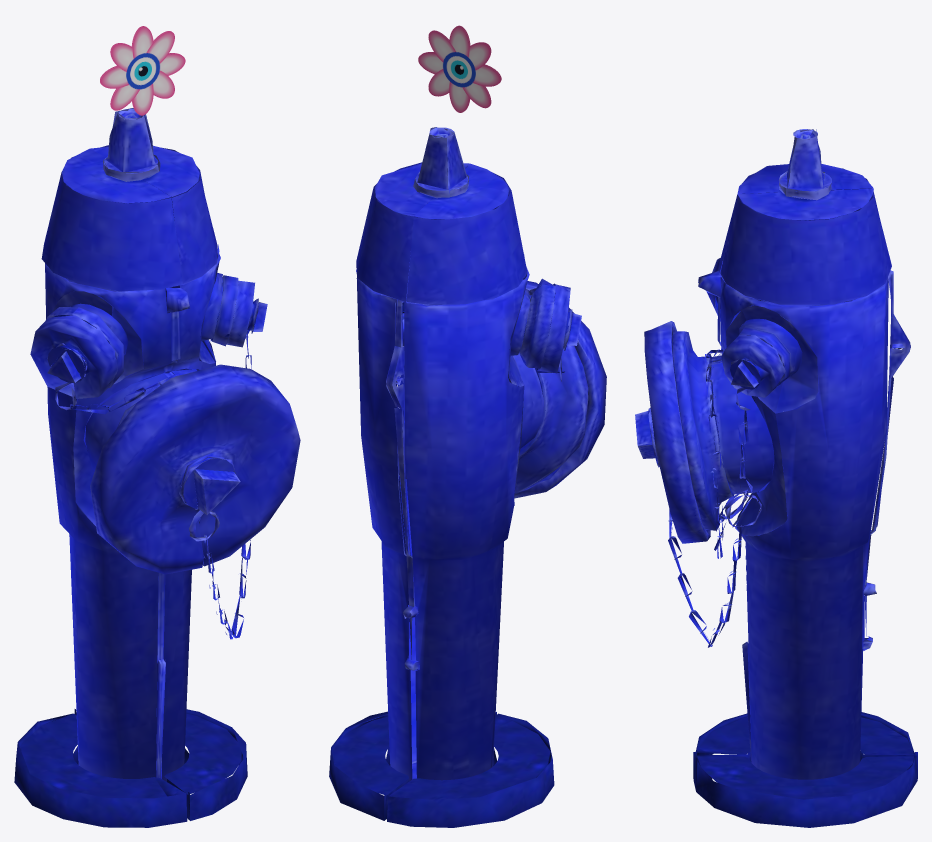
Rendered from isl_hydrant.glb.
3 views of the same model, side by side, from view 1: azimuth 30°, elevation 25°; view 2: azimuth 150°, elevation 25°; view 3: azimuth 270°, elevation 25° (orthographic). The views are drawn at different scales.
Parts seen in each view (by area): view 1: fire_hydrant, add_eyeflower.png; view 2: fire_hydrant, add_eyeflower.png; view 3: fire_hydrant.
Part boxes in pixels (left/top/right/bottom): fire_hydrant: left=14, top=108, right=300, bottom=827; add_eyeflower.png: left=100, top=26, right=185, bottom=115; fire_hydrant: left=329, top=127, right=606, bottom=827; add_eyeflower.png: left=418, top=25, right=501, bottom=112; fire_hydrant: left=635, top=129, right=917, bottom=827.
Size of the model in its own units: 0.2743 by 0.9206 by 0.3173.
Materials: 2 (2 with a texture image).
